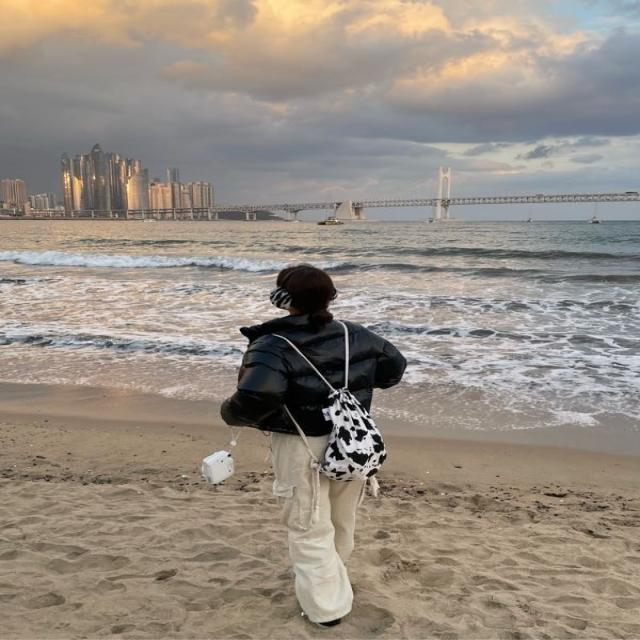cottonpants: (269, 426, 371, 625)
padding: (219, 311, 409, 437)
